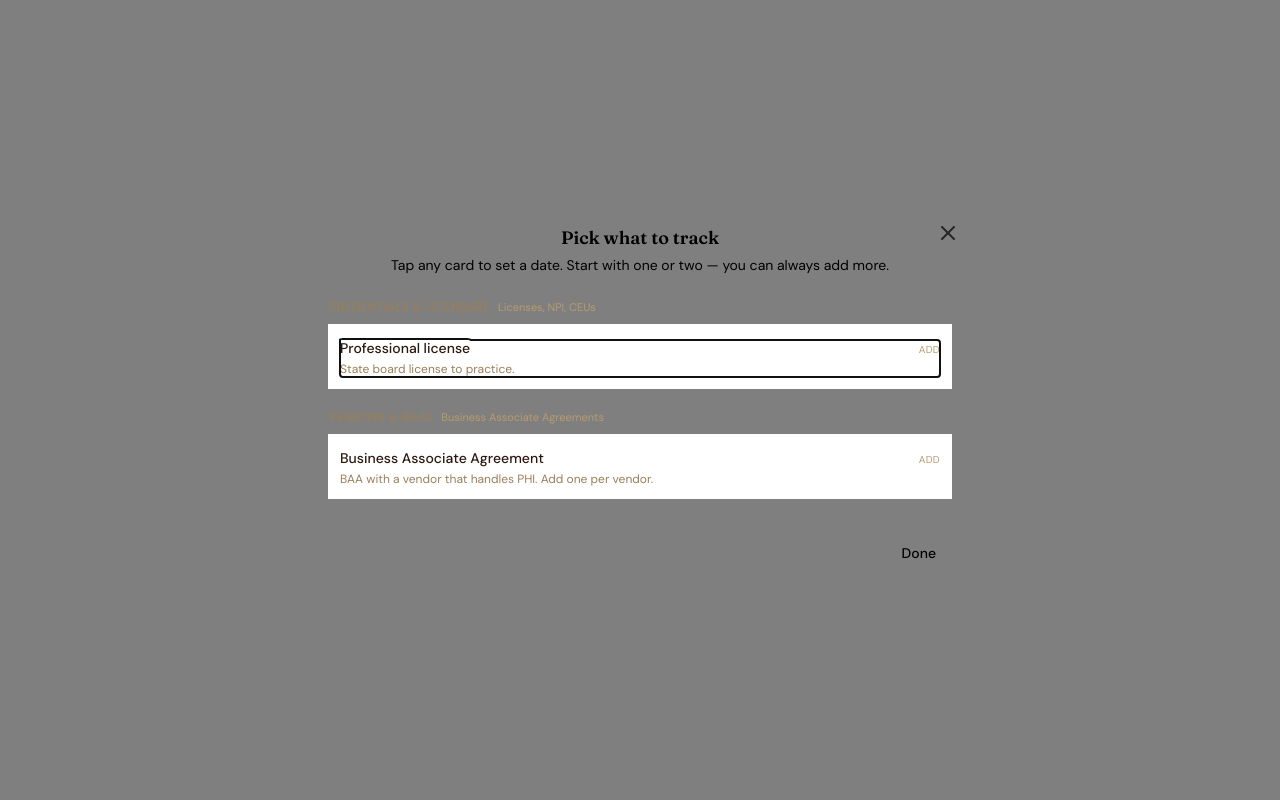
Test: ReminderComposer › create flow › multi-instance: 'Save & add another' resets to a fresh form on the same template
Note: Click the BAA card body to land in its edit view.
Click the text "Business Associate Agreement" at (442, 458), box [340,448,544,466]
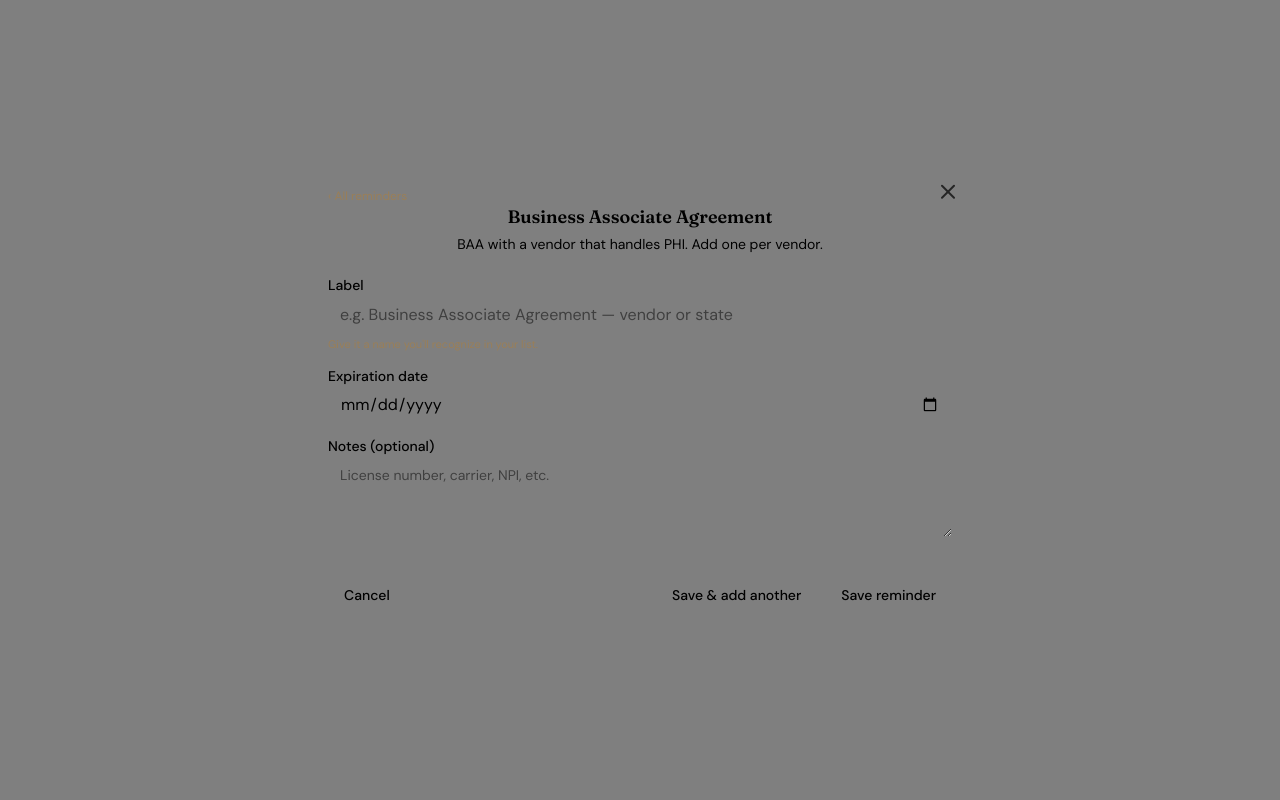
Note: Label is required for multi-instance.
Type "BAA — Spruce" into the field labelled "Label" at (640, 314), box [328,296,952,332]
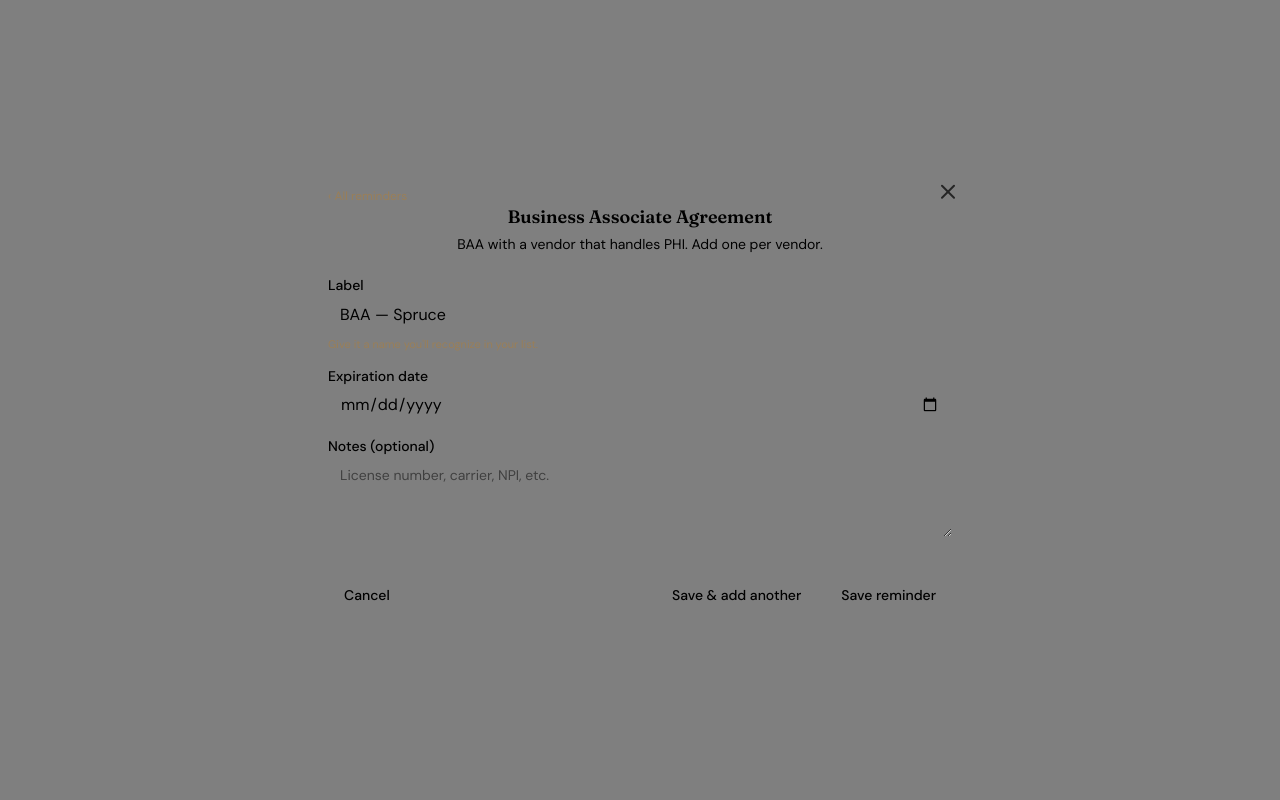
Type "2027-09-01" into the date field labelled "Expiration date" at (640, 404), box [328,386,952,422]
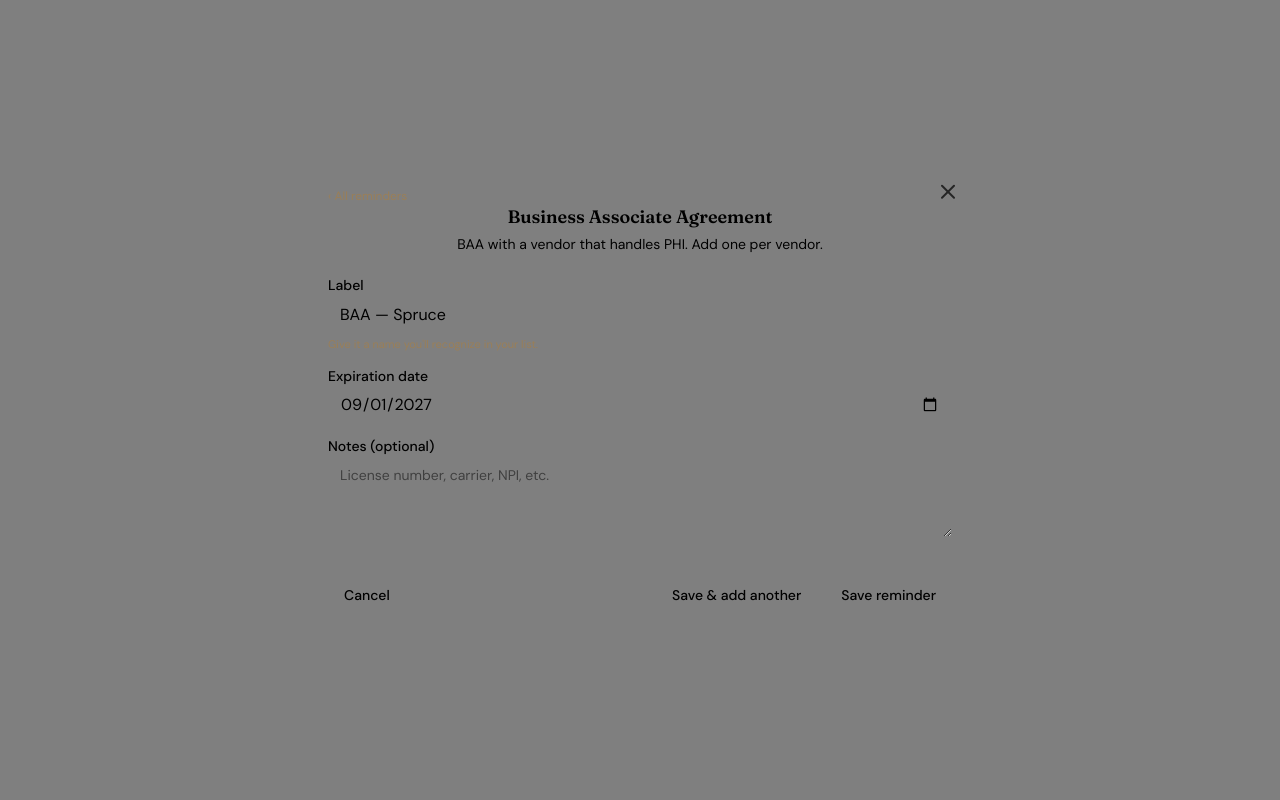
Click the button "Save & add another" at (737, 594), box [656,576,817,612]
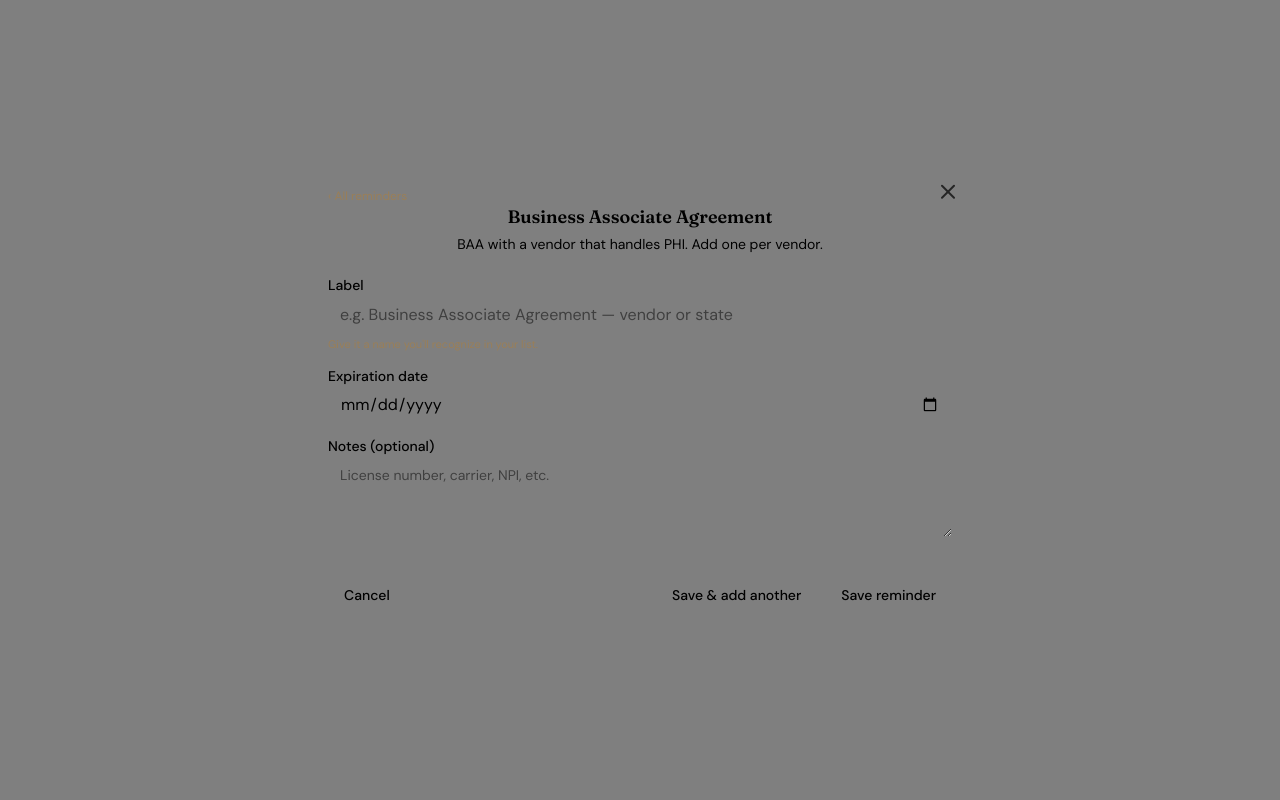
Expected: the heading "Business Associate Agreement" is shown, [508,205,772,228]
Expected: the field labelled "Label" is empty, [328,296,952,332]
